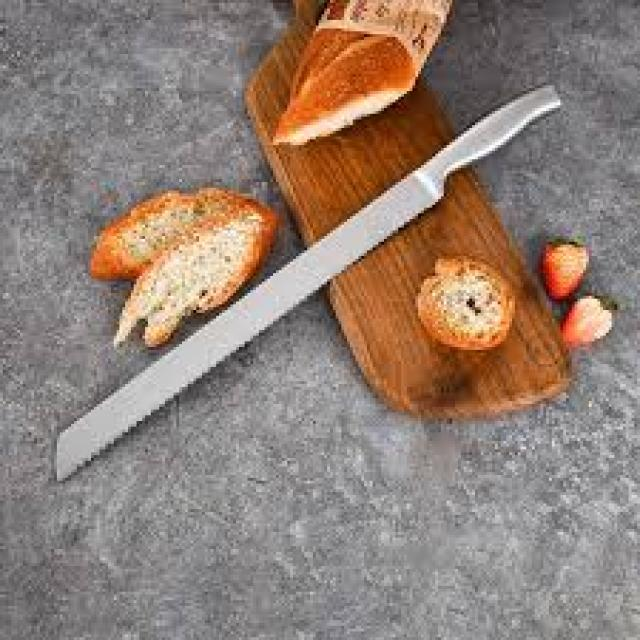Knife: (54, 88, 555, 478)
